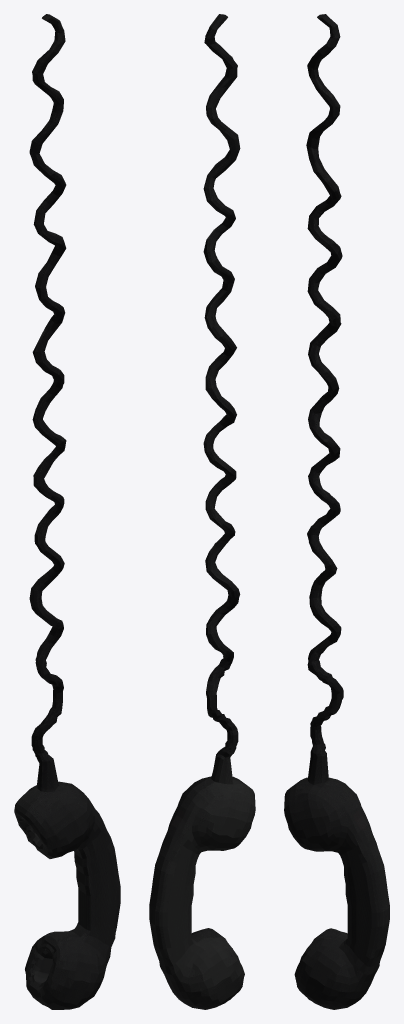
File: Meshy_AI_Coiled_Silence_0629112151_texture.fbx
3 views of the same model, side by side, from view 1: azimuth 30°, elevation 25°; view 2: azimuth 210°, elevation 25°; view 3: azimuth 330°, elevation 25° (orthographic).
Parts seen in each view (by area): view 1: temp; view 2: temp; view 3: temp.
Part boxes in pixels (<box>): temp: <box>14,14,120,1009</box>; temp: <box>149,14,255,1009</box>; temp: <box>284,14,389,1009</box>.
Bounding box in the file's own units: 19.57 × 190 × 12.13.
1 material, 1 textured.
